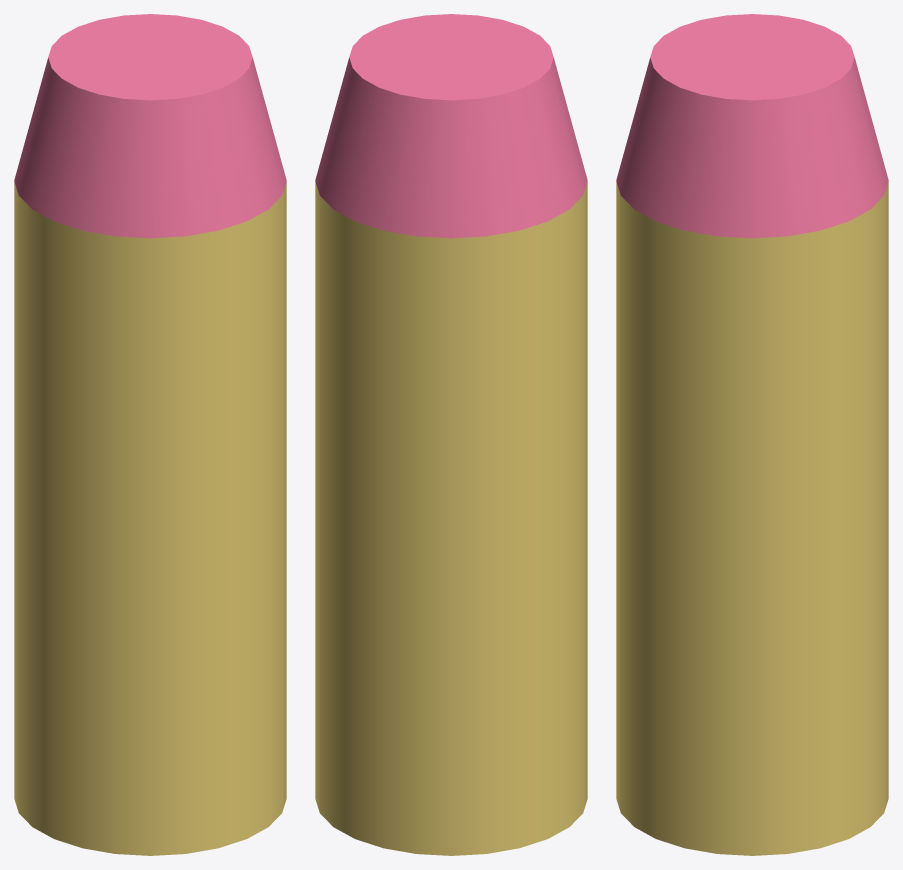
File: bullet.glb
3 views of the same model, side by side, from view 1: azimuth 30°, elevation 25°; view 2: azimuth 150°, elevation 25°; view 3: azimuth 270°, elevation 25° (orthographic).
Parts seen in each view (by area): view 1: foamBulletB; view 2: foamBulletB; view 3: foamBulletB.
Boxes of the visible parts, x1,y1,x2,y2 form: foamBulletB: (14, 14, 286, 855); foamBulletB: (315, 14, 587, 855); foamBulletB: (616, 14, 888, 855).
Bounding box in the file's own units: 0.02 × 0.06 × 0.02.
